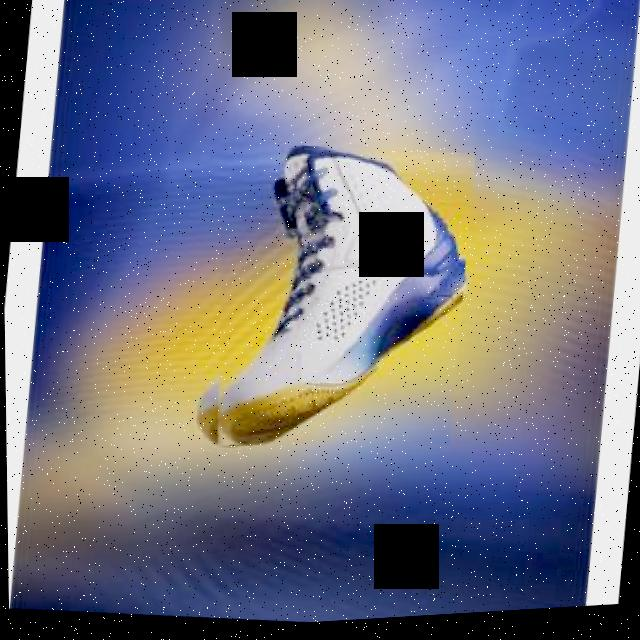shoe: (190, 132, 478, 473)
